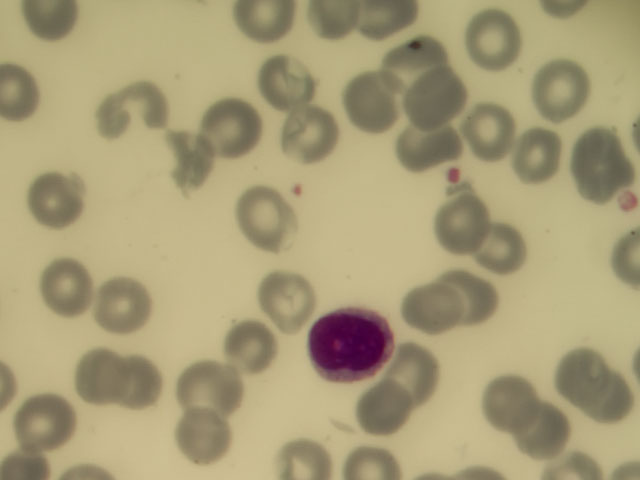Platelets: (290, 183, 311, 200), (619, 189, 633, 211), (445, 167, 461, 185)
RBC: (95, 77, 157, 137), (21, 161, 83, 221), (37, 259, 99, 319), (96, 277, 158, 337), (64, 348, 126, 408), (114, 347, 176, 407), (17, 393, 79, 453), (176, 408, 238, 468), (178, 357, 240, 417), (217, 317, 279, 377), (258, 276, 320, 336), (229, 182, 291, 242), (200, 91, 262, 151), (157, 125, 219, 185), (249, 49, 311, 109), (277, 109, 339, 169), (388, 29, 450, 89), (337, 71, 399, 131), (408, 68, 470, 128), (397, 108, 459, 168), (463, 107, 525, 167), (467, 12, 529, 72), (526, 59, 588, 119), (514, 127, 576, 187), (561, 132, 623, 192), (477, 219, 539, 279), (427, 196, 489, 256), (443, 268, 505, 328), (394, 278, 456, 338), (394, 340, 456, 400), (349, 381, 411, 441), (481, 375, 543, 435), (516, 396, 578, 456), (555, 343, 617, 403), (21, 1, 83, 60), (300, 1, 362, 60), (235, 1, 297, 60)
WBC: (306, 311, 396, 380)
